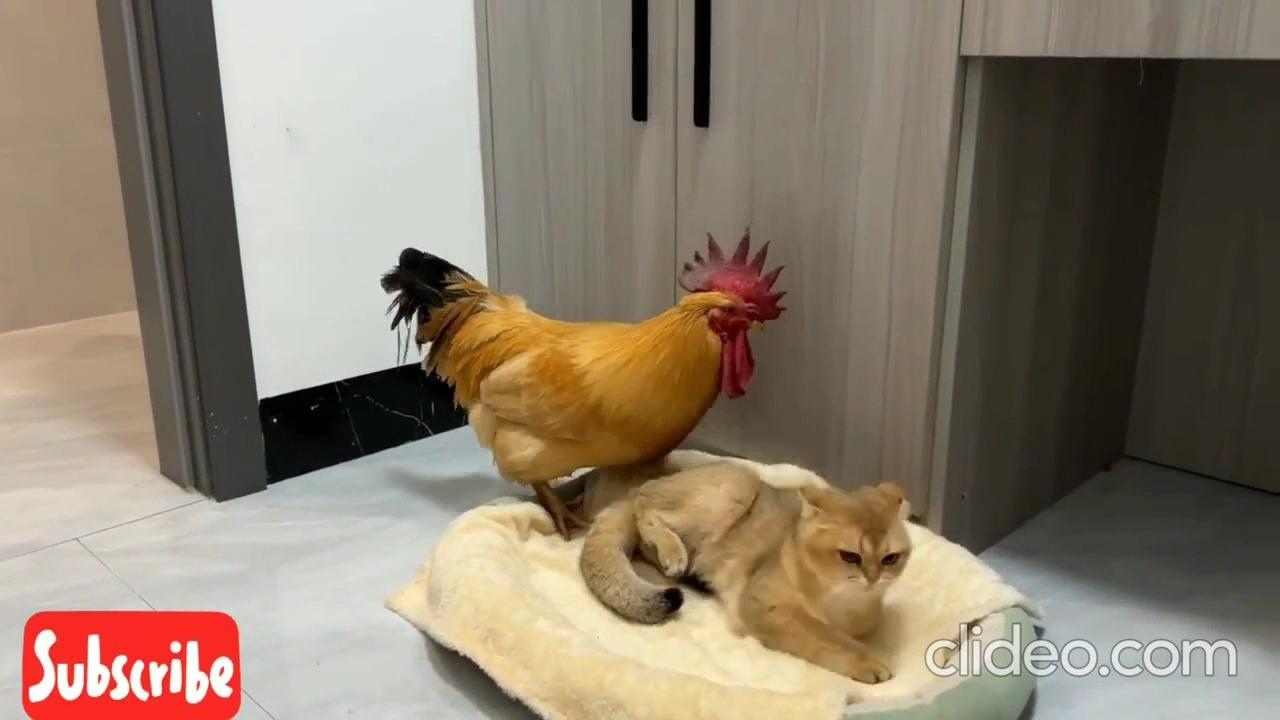Normal: (392, 236, 781, 449)
